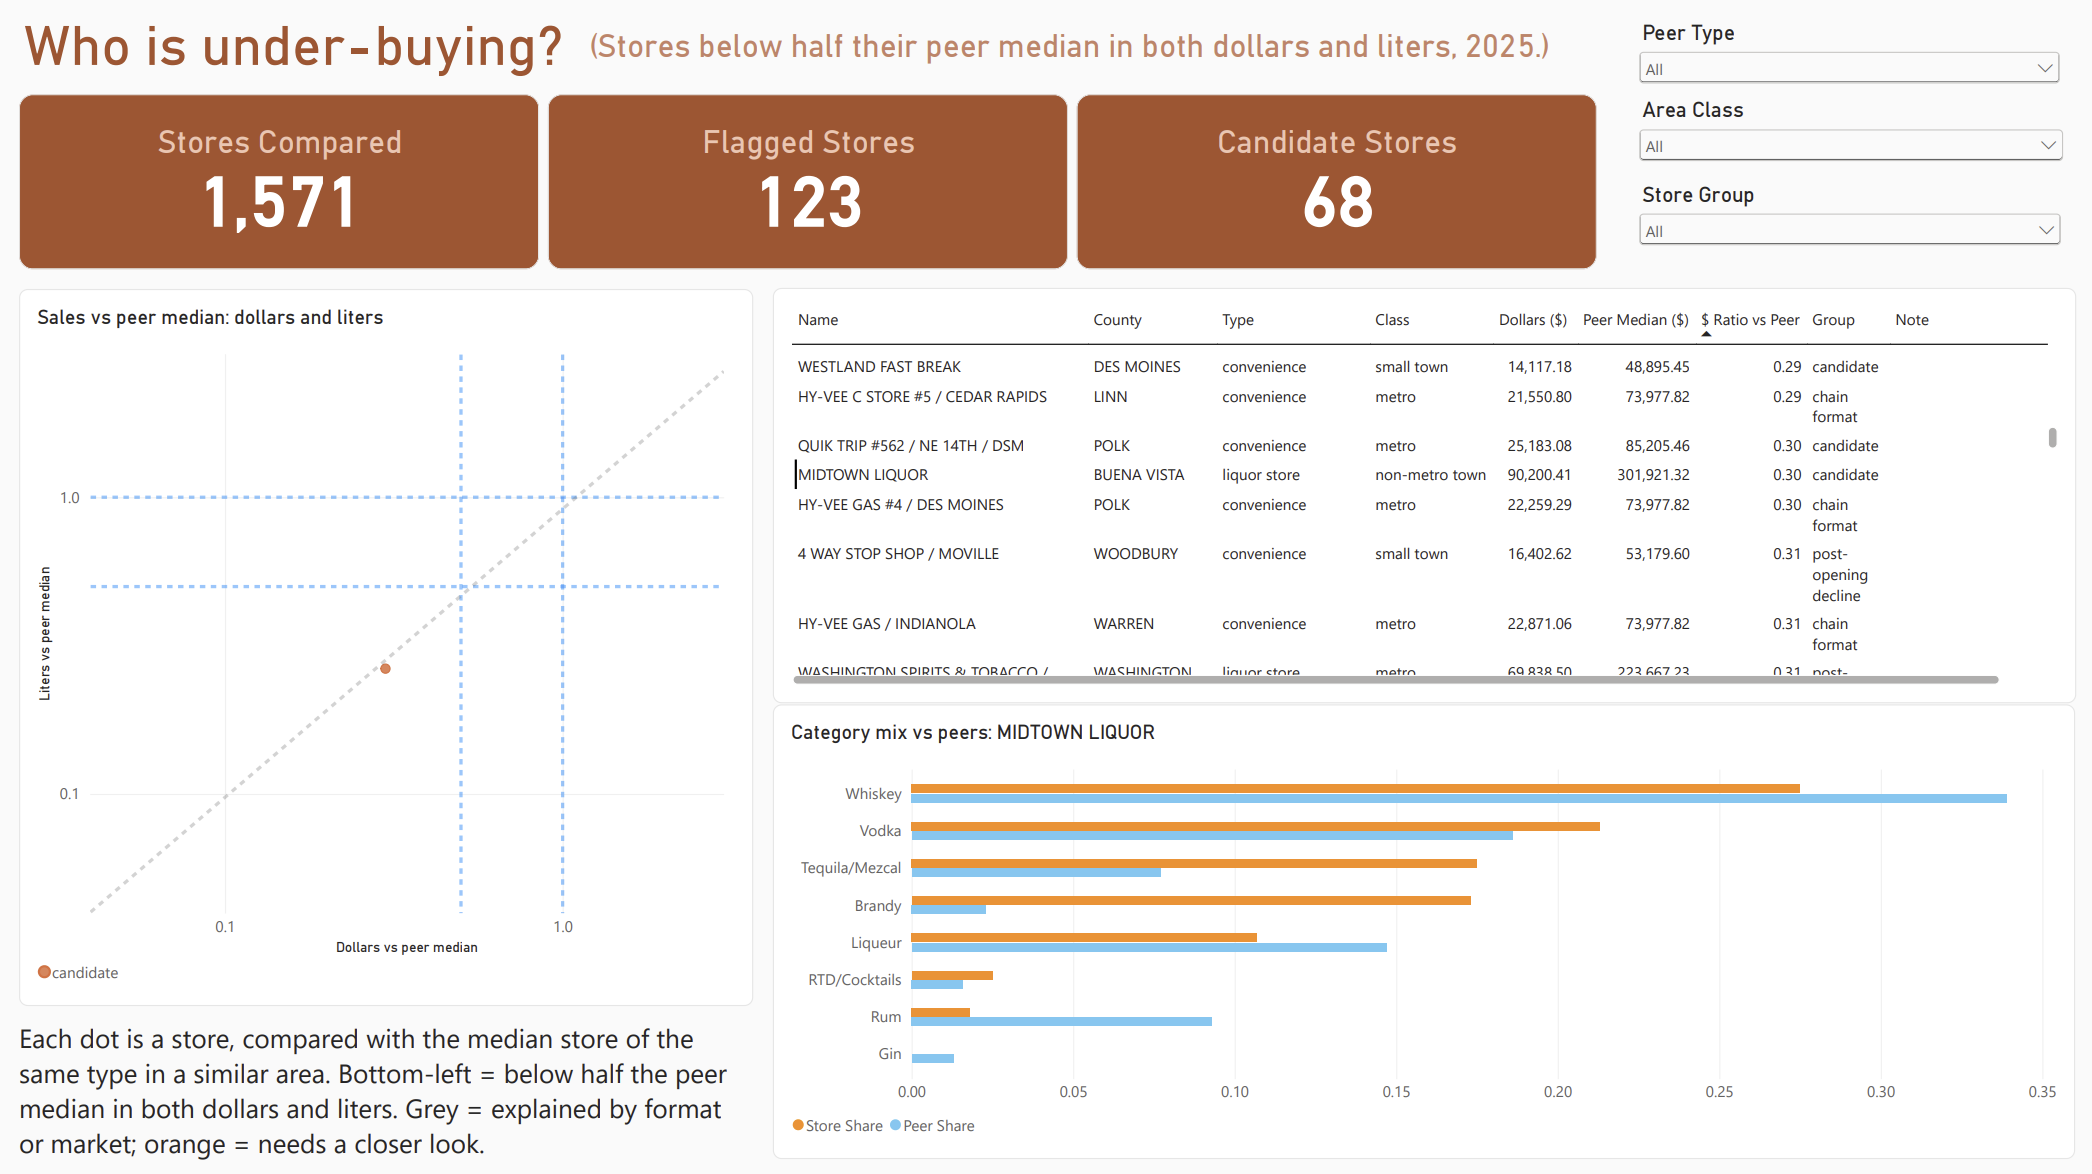

Layout of this report page (visuals, bound fields, positions):
{"tool":"powerbi","page":{"name":"Benchmarking","canvas":[1920,1080],"ordinal":2},"visuals":[{"type":"slicer","fields":{"Values":["store_category_gaps.peer_type"]},"box":[1498,20,395,67.5],"z":0},{"type":"slicer","fields":{"Values":["store_category_gaps.area_class"]},"box":[1498,91,398,73],"z":1000},{"type":"slicer","fields":{"Values":["store_peers.store_group"]},"box":[1498,168,396,74],"z":2000},{"type":"cardVisual","fields":{"Data":["_Measures.Stores Compared","_Measures.Flagged Stores","_Measures.Candidate Stores"]},"box":[20,88,1444,160],"z":3000},{"type":"scatterChart","title":"Sales vs peer median: dollars and liters","fields":{"Category":["store_peers.store_number"],"Series":["store_peers.store_group"],"X":["store_peers.ratio_dollars"],"Y":["store_peers.ratio_to_peers"]},"box":[20,266,672,656],"z":4000},{"type":"tableEx","fields":{"Values":["store_peers.store_name","store_peers.county","store_category_gaps.peer_type","store_category_gaps.area_class","store_peers.dollars","store_peers.peer_median_dollars","store_peers.ratio_dollars","store_peers.store_group","store_peers.review_note"]},"box":[710,265,1192.5,380],"z":5000},{"type":"clusteredBarChart","fields":{"Category":["store_category_gaps.family"],"Y":["_Measures.Store Share","_Measures.Peer Share"]},"box":[710,646,1192,416],"z":6000},{"type":"textbox","box":[20,933.8,672.5,146.2],"z":7000},{"type":"textbox","box":[24,14,528,74],"z":8000},{"type":"textbox","box":[543,27,925,63],"z":9000}]}

Visuals, with their boxes in screenshot pixels (x1, y1, x2, y2), scaled from the page's 1920x1080 canvas onto the 2092x1174 screenshot:
slicer - store_category_gaps.peer_type: <bbox>1632, 22, 2063, 95</bbox>
slicer - store_category_gaps.area_class: <bbox>1632, 99, 2066, 178</bbox>
slicer - store_peers.store_group: <bbox>1632, 183, 2064, 263</bbox>
cardVisual - _Measures.Stores Compared x _Measures.Flagged Stores: <bbox>22, 96, 1595, 270</bbox>
"Sales vs peer median: dollars and liters" scatterChart: <bbox>22, 289, 754, 1002</bbox>
tableEx - store_peers.store_name x store_peers.county: <bbox>774, 288, 2073, 701</bbox>
clusteredBarChart - store_category_gaps.family x _Measures.Store Share: <bbox>774, 702, 2072, 1154</bbox>
textbox: <bbox>22, 1015, 755, 1173</bbox>
textbox: <bbox>26, 15, 601, 96</bbox>
textbox: <bbox>592, 29, 1600, 98</bbox>
